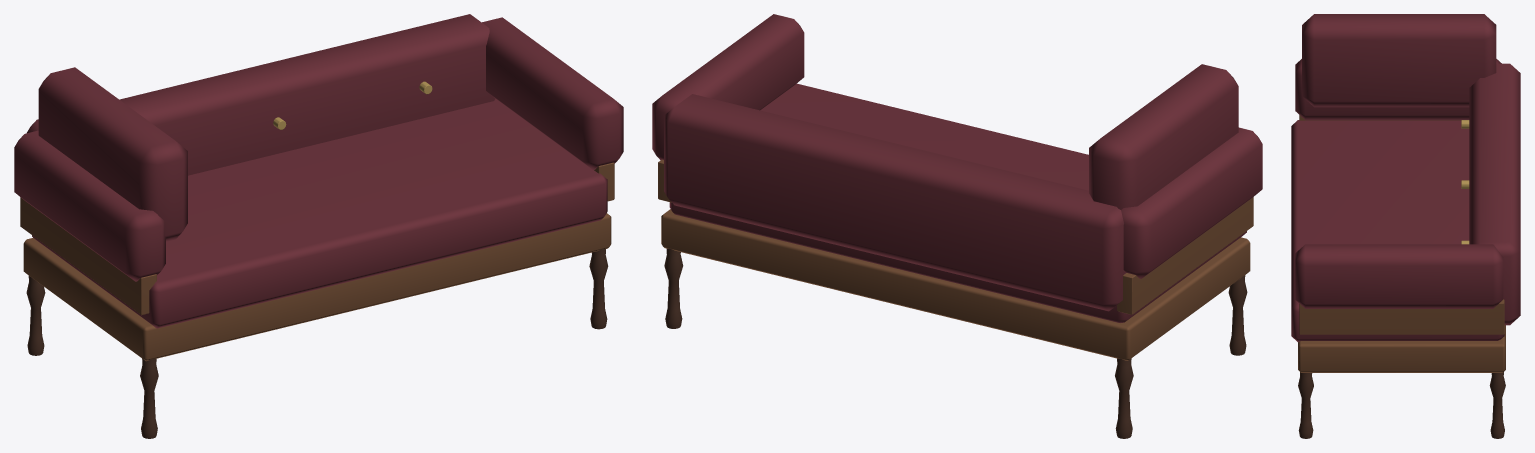
Rendered from rpg-mansion-chaise-01.glb.
3 renders of one model, left to right at view 1: azimuth 30°, elevation 25°; view 2: azimuth 150°, elevation 25°; view 3: azimuth 270°, elevation 25°, orthographic. The views are drawn at different scales.
Parts seen in each view (by area): view 1: rpg-mansion-chaise-01; view 2: rpg-mansion-chaise-01; view 3: rpg-mansion-chaise-01.
Part boxes in pixels (<box>): rpg-mansion-chaise-01: <box>14,14,623,438</box>; rpg-mansion-chaise-01: <box>652,14,1262,438</box>; rpg-mansion-chaise-01: <box>1291,14,1520,438</box>.
Size of the model in its own units: 1.8 by 0.98 by 0.85.
